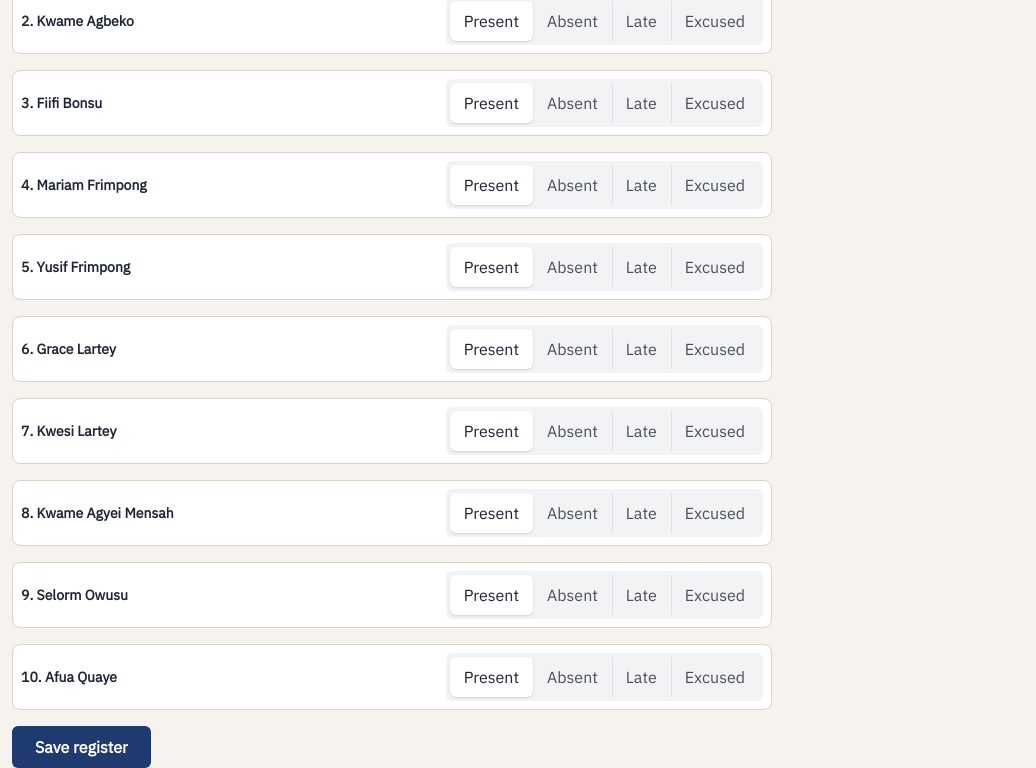
it: attendance register › teacher marks one child absent with one tap and saves
(page scrolled)
Click the radio button labelled "Absent" in the row of "Kwame Agyei Mensah" at (572, 513), box [547,503,598,523]
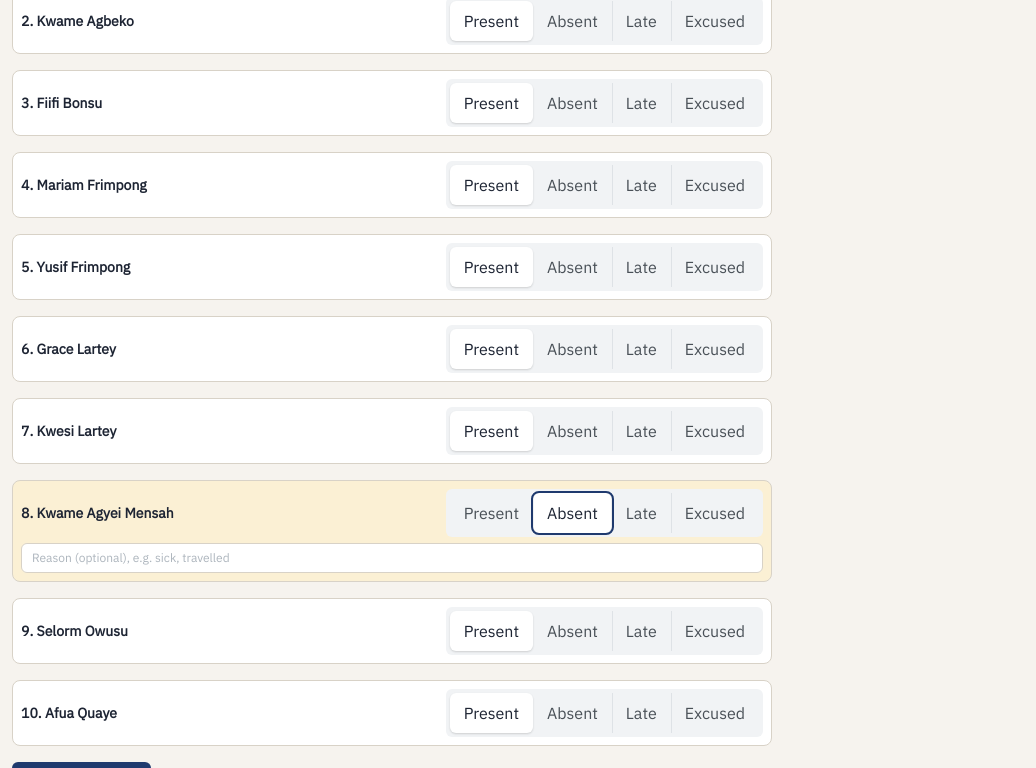
Type "Sick" into the field named "Reason for Kwame" at (392, 558), box [21,543,763,573]
(page scrolled)
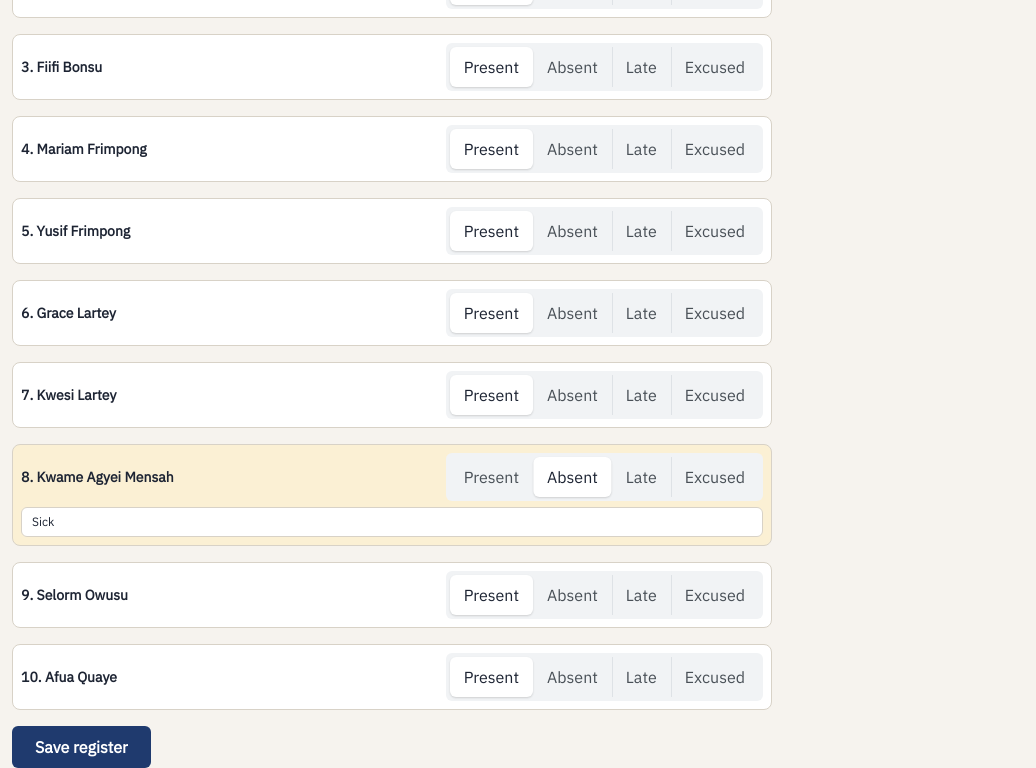
Click the button "Save register" at (81, 747), box [12,726,151,767]
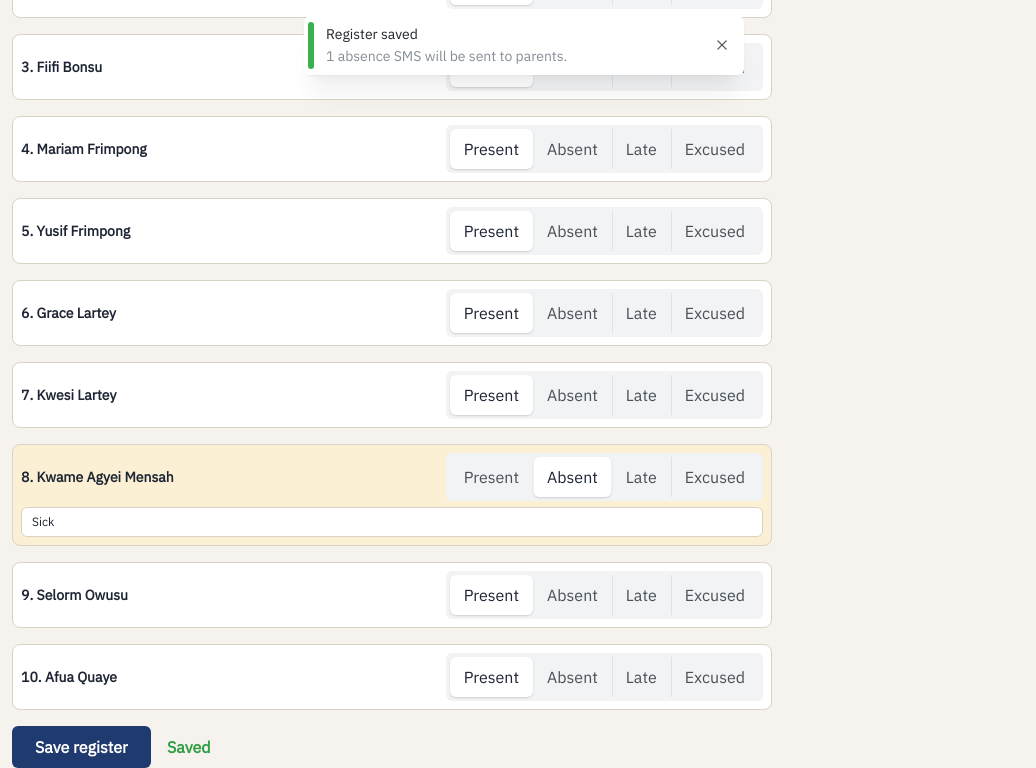
Result: the text "Saved" is shown at [167,735,210,759]
